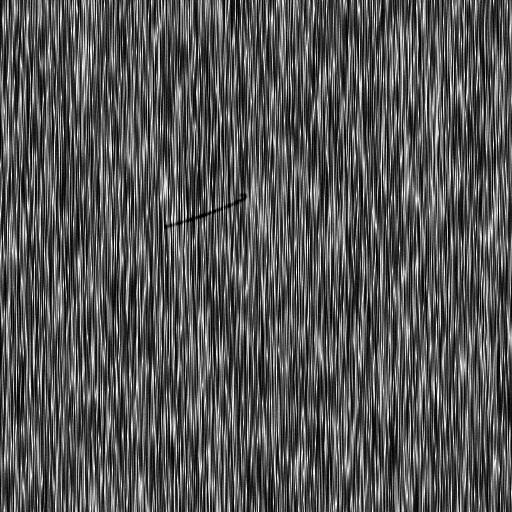DefectTypeC: (171, 194, 246, 234)
